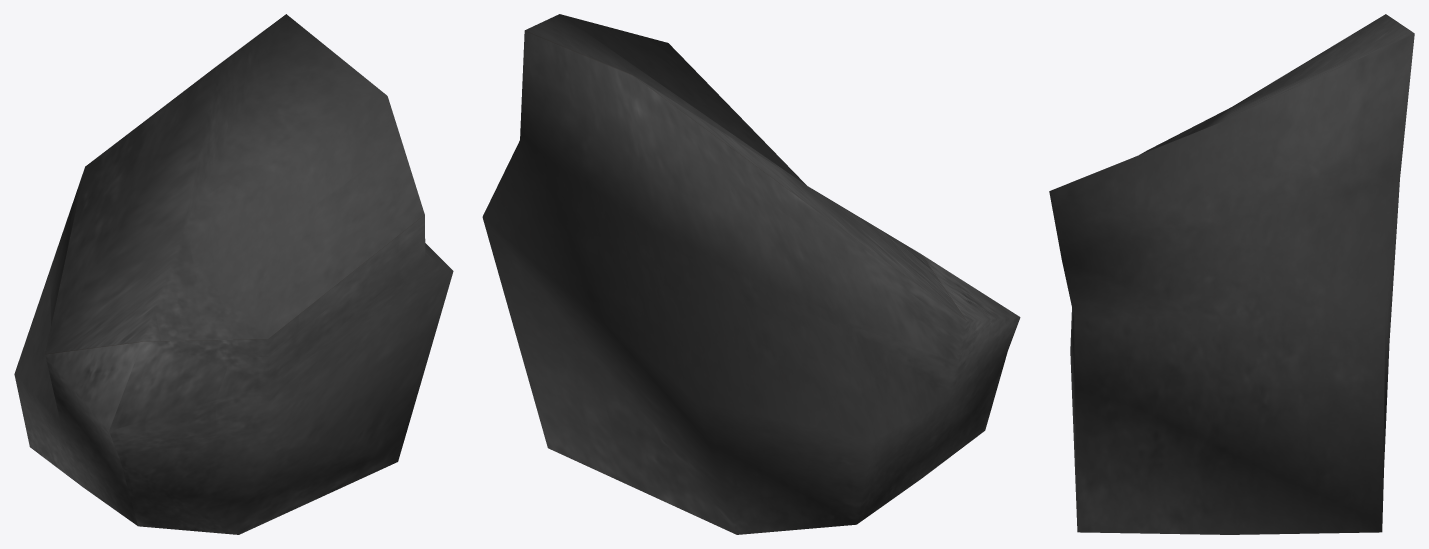
File: Pedra3.fbx
3 renders of one model, left to right at view 1: azimuth 30°, elevation 25°; view 2: azimuth 150°, elevation 25°; view 3: azimuth 270°, elevation 25°, orthographic. The views are drawn at different scales.
Visible parts, largest first — view 1: Pedra; view 2: Pedra; view 3: Pedra.
Part boxes in pixels (left/top/right/bottom): Pedra: left=14, top=14, right=453, bottom=534; Pedra: left=482, top=14, right=1020, bottom=534; Pedra: left=1049, top=14, right=1414, bottom=534.
Bounding box in the file's own units: 367 × 385 × 229.
